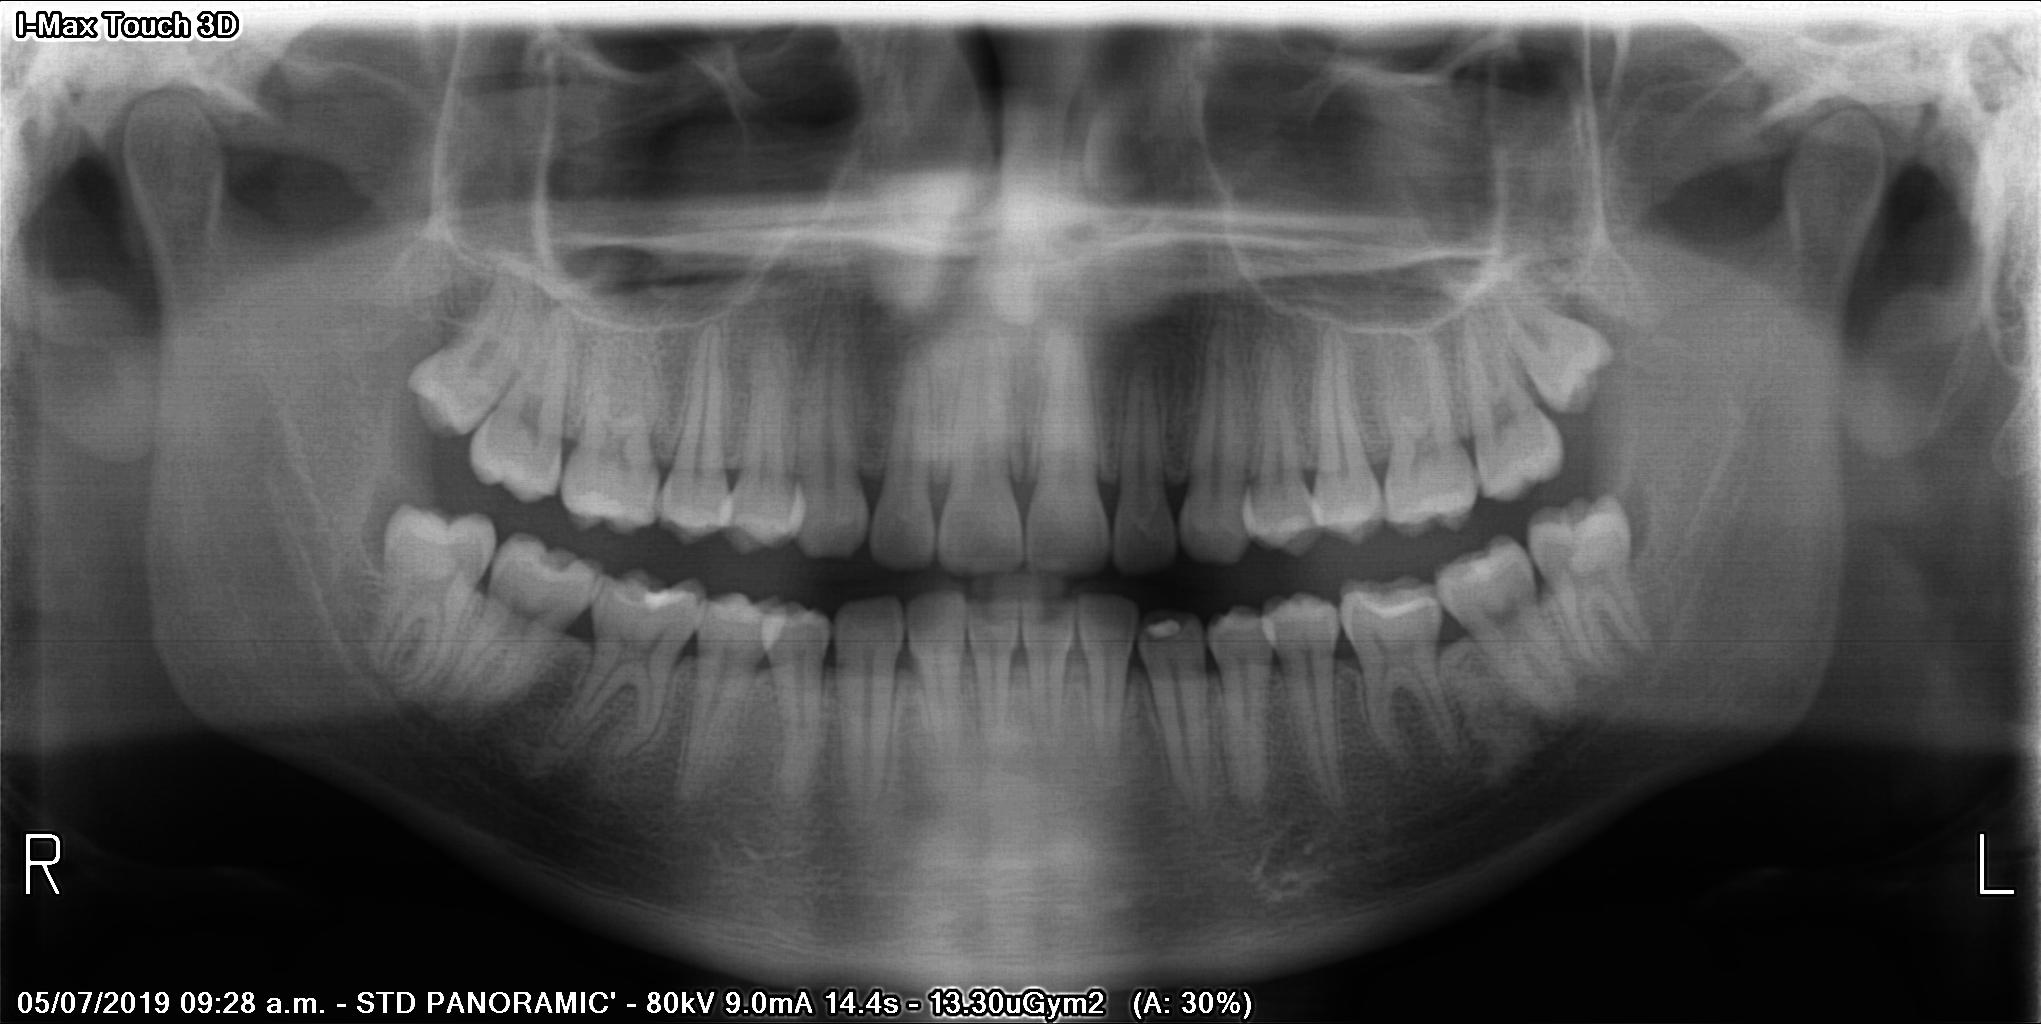Çürük: (1143, 610, 1188, 635)
Çürük Bölgesi: (539, 550, 590, 580), (1141, 633, 1184, 657)
